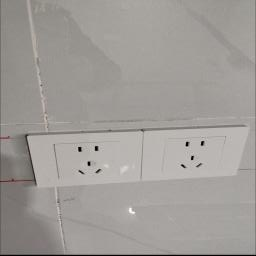outlet: (16, 127, 143, 187), (140, 126, 252, 180)
